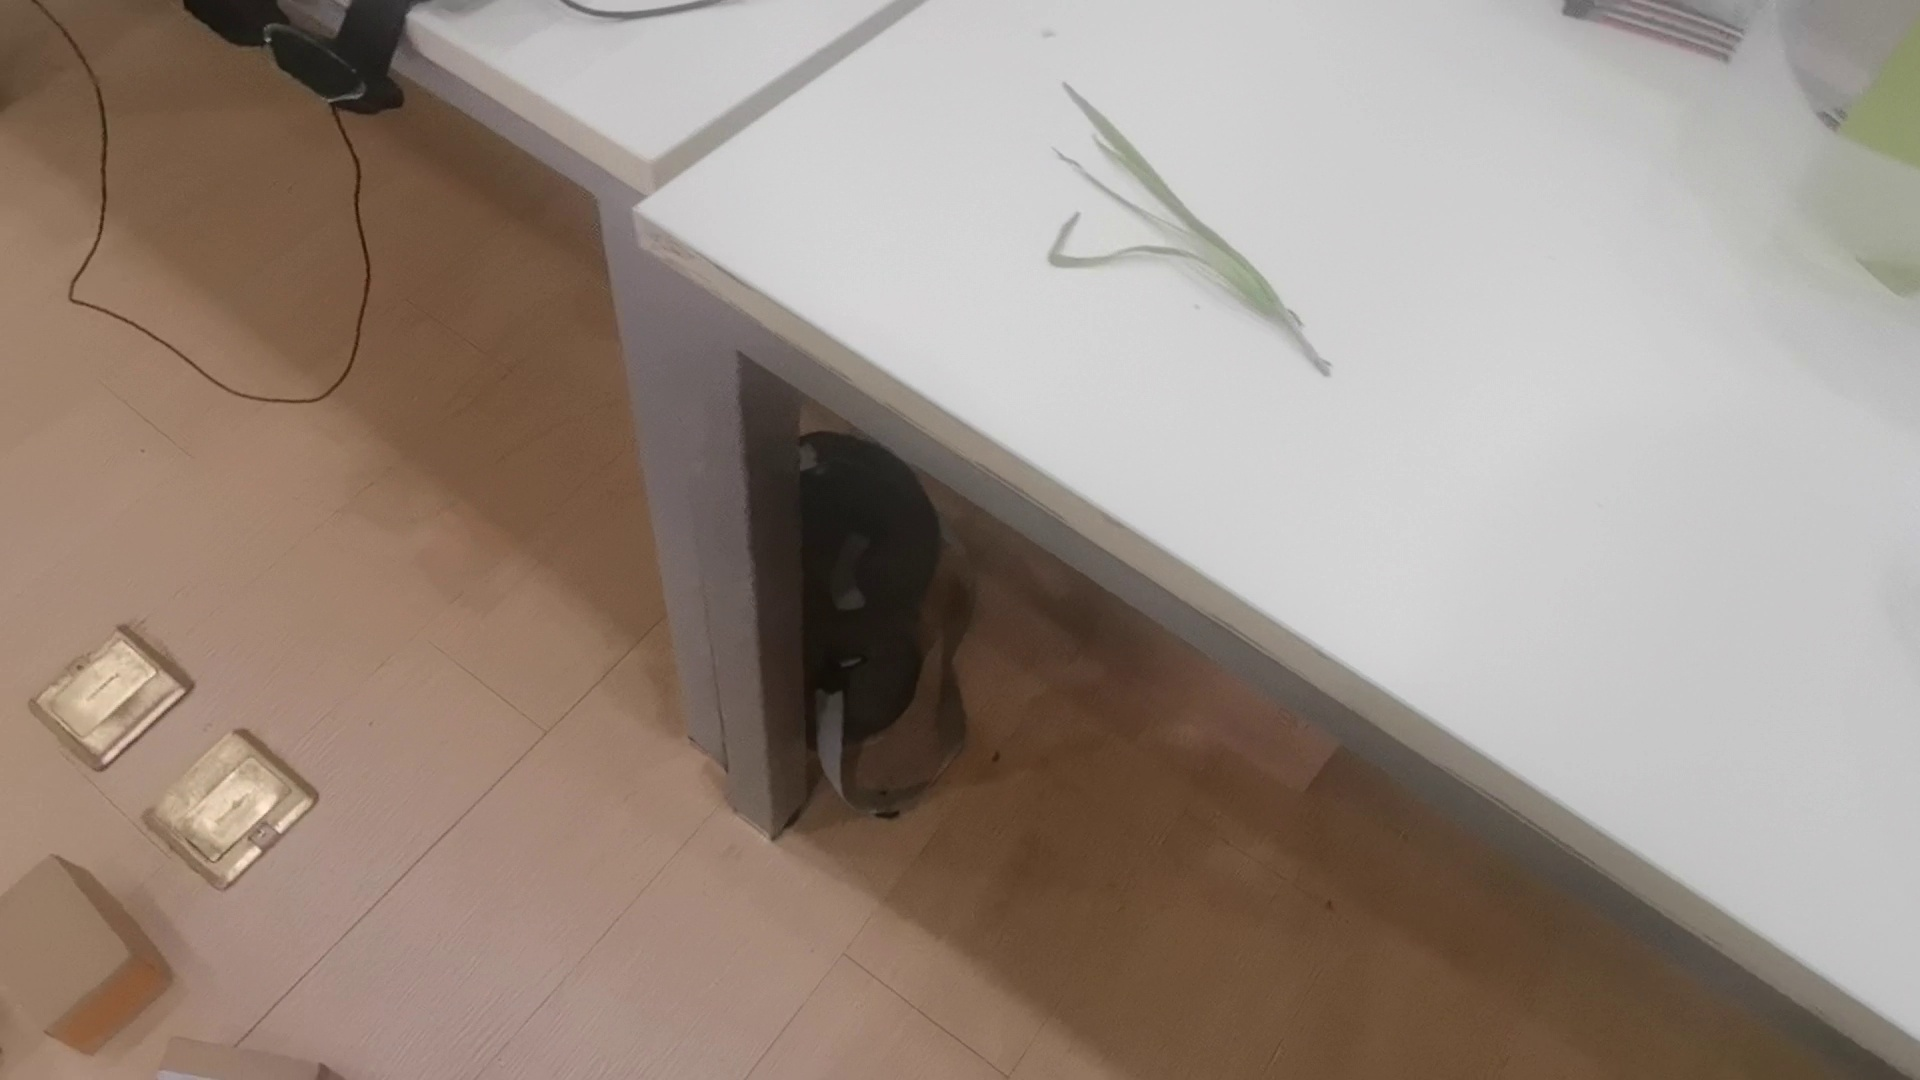chives: (1036, 76, 1338, 375)
